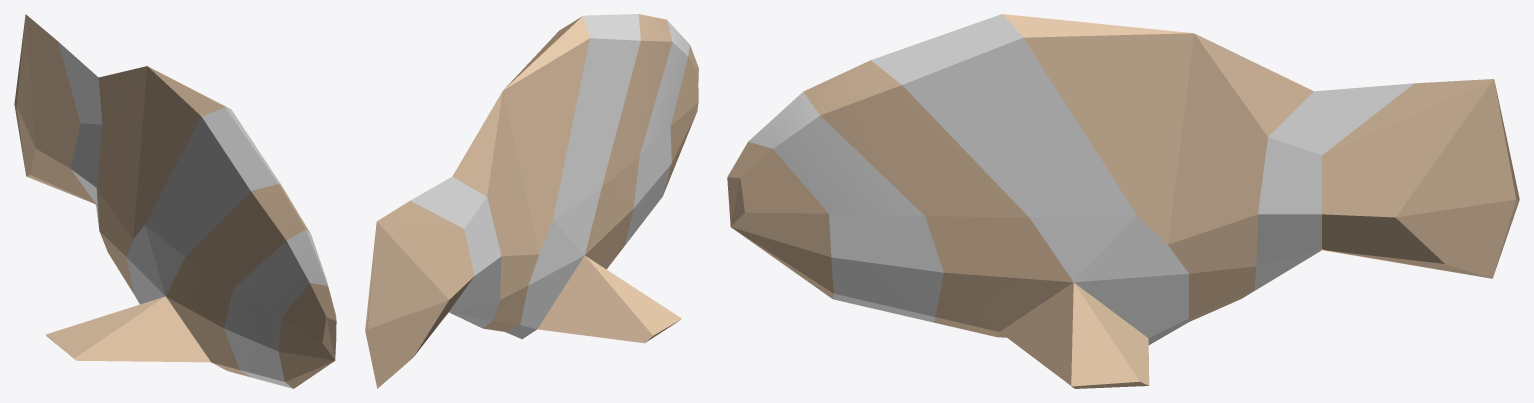
The model's file is Clown fish.fbx.
3 views of the same model, side by side, from view 1: azimuth 30°, elevation 25°; view 2: azimuth 150°, elevation 25°; view 3: azimuth 270°, elevation 25° (orthographic). The views are drawn at different scales.
Visible parts, largest first — view 1: Gold_Fish:Red_Fish:pCube2, Gold_Fish:Red_Fish:pCube1; view 2: Gold_Fish:Red_Fish:pCube2, Gold_Fish:Red_Fish:pCube1; view 3: Gold_Fish:Red_Fish:pCube1, Gold_Fish:Red_Fish:pCube2.
Part boxes in pixels (x1,y1,x2,y2): Gold_Fish:Red_Fish:pCube2: (16,14,336,388); Gold_Fish:Red_Fish:pCube1: (14,18,336,348); Gold_Fish:Red_Fish:pCube2: (365,14,698,388); Gold_Fish:Red_Fish:pCube1: (367,16,698,382); Gold_Fish:Red_Fish:pCube1: (727,14,1519,388); Gold_Fish:Red_Fish:pCube2: (728,83,1519,288).
Bounding box in the file's own units: 1.2 × 1.25 × 2.7.
